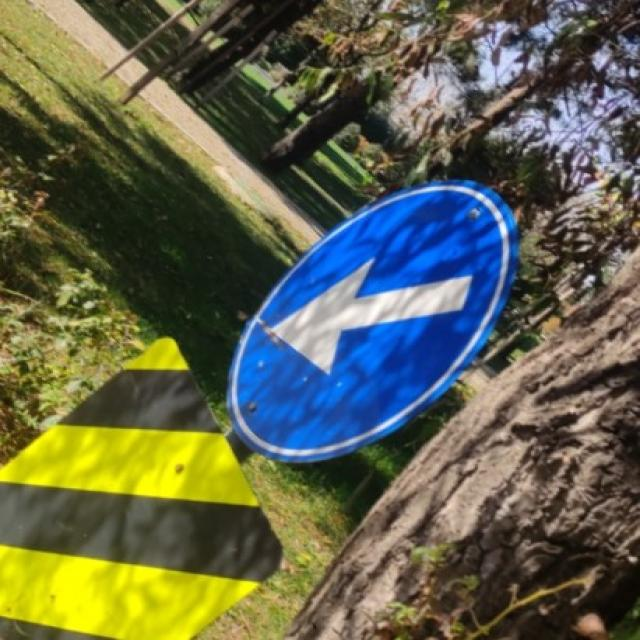Turn Left: (233, 179, 521, 466)
